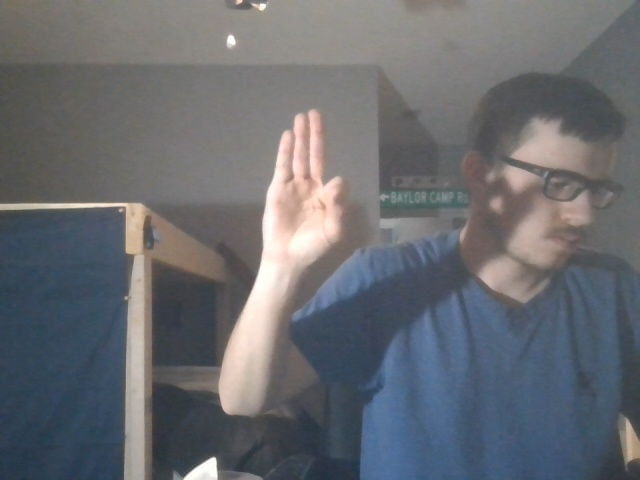F: (239, 104, 349, 270)
